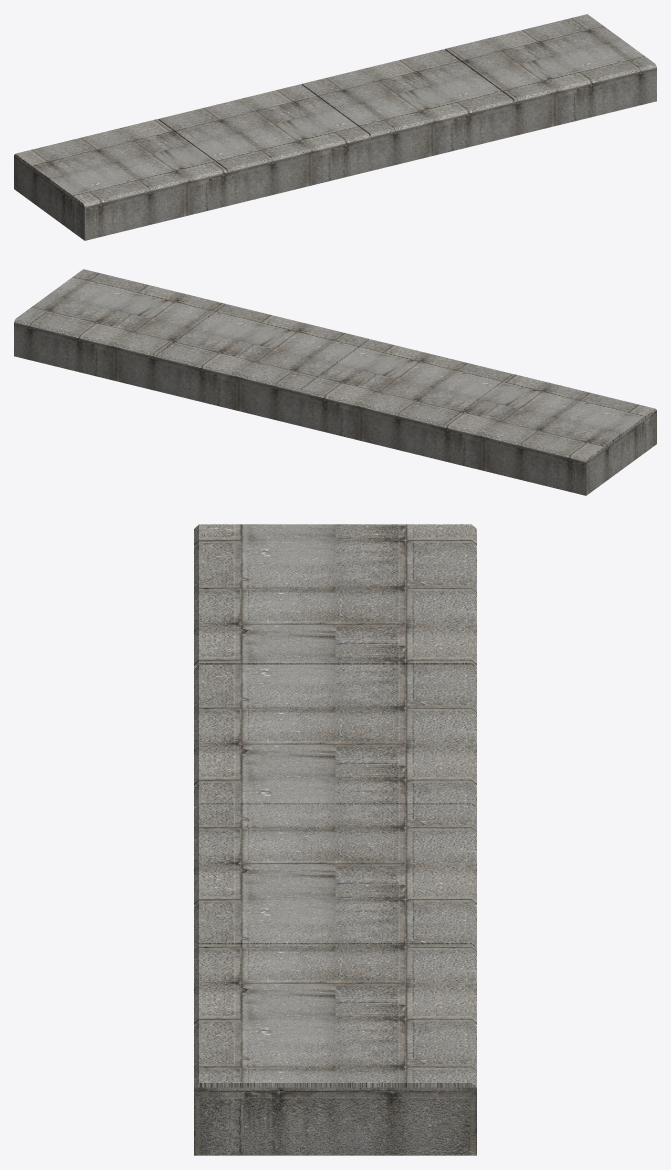
The model's file is yard-kerb-stone.glb.
3 renders of one model, top to bottom at view 1: azimuth 30°, elevation 25°; view 2: azimuth 150°, elevation 25°; view 3: azimuth 270°, elevation 25°, orthographic. The views are drawn at different scales.
Parts seen in each view (by area): view 1: yard-kerb-stone; view 2: yard-kerb-stone; view 3: yard-kerb-stone.
Part boxes in pixels (box(x1,y1,x2,y2)): yard-kerb-stone: box(14, 14, 656, 240); yard-kerb-stone: box(14, 269, 656, 495); yard-kerb-stone: box(194, 524, 476, 1155).
Bounding box in the file's own units: 5.6 × 0.34 × 1.2.
Materials: 1 (1 with a texture image).
